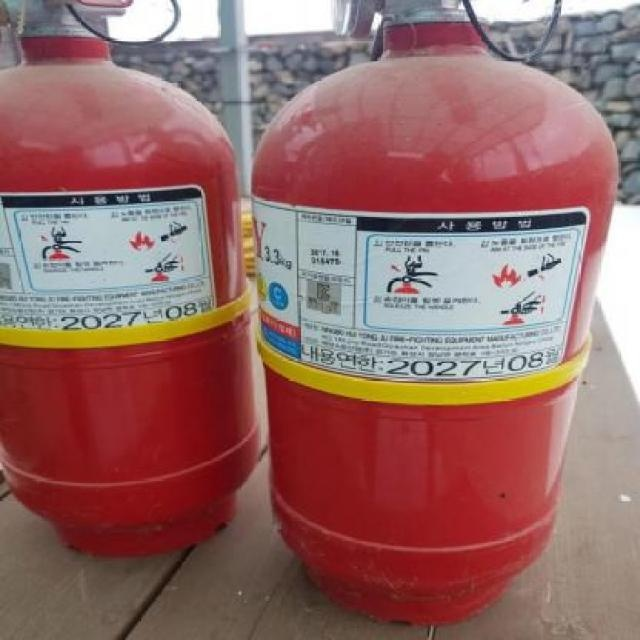fire extinguisher: (250, 0, 618, 626), (0, 0, 261, 558)
